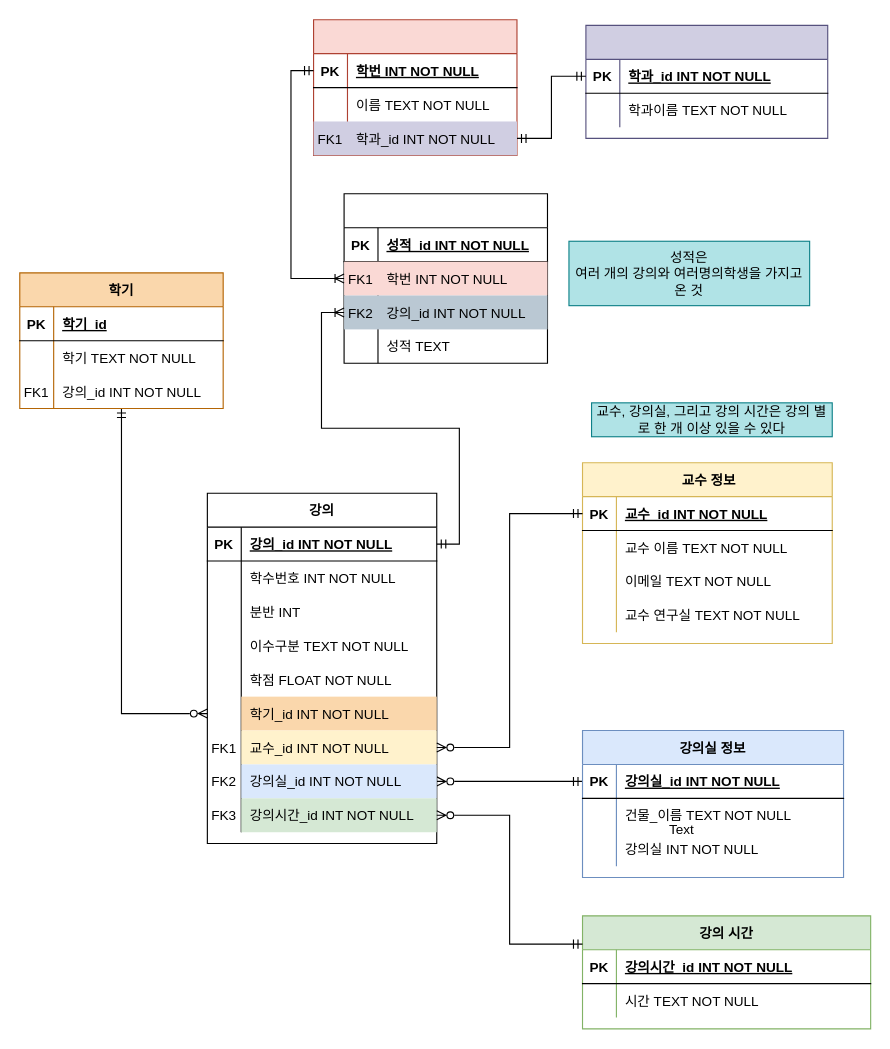
The diagram is 890 pixels wide and 1049 high, and some of its shapes have lost their labels. The shapes that lost their labels are listed below. From the top down, each one's box as (x1, y1, x2, y2) in pixels, then its label:
(312, 19, 517, 155): 학생
(585, 24, 828, 138): 학과
(343, 193, 547, 363): 성적
